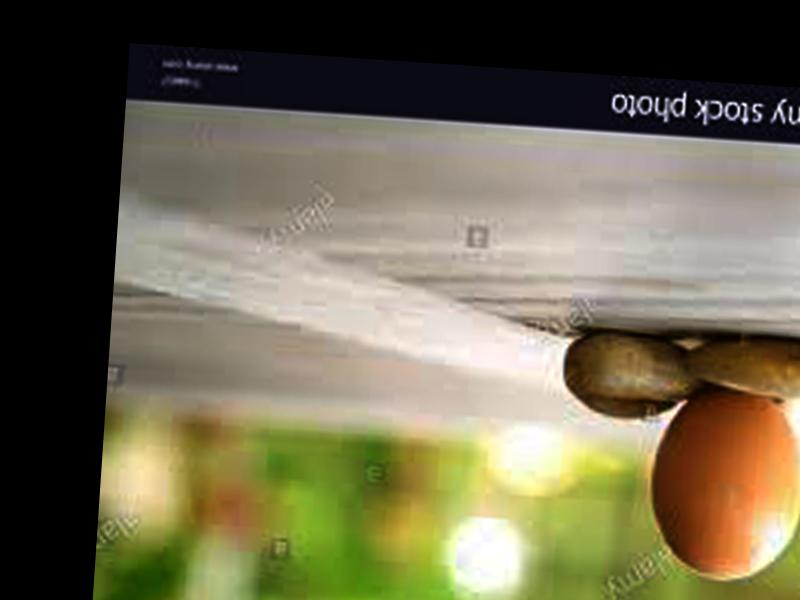Eggs: (644, 384, 800, 582)
